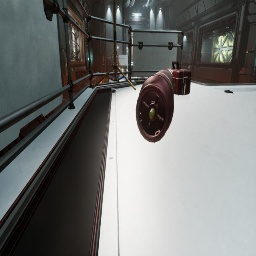0: (120, 65, 122, 76), (122, 65, 124, 76), (127, 65, 128, 77), (133, 77, 138, 78), (97, 72, 101, 73), (112, 63, 114, 65)
EmergencyPhone ,: (102, 55, 104, 59)
FireAlarm ,: (193, 52, 194, 55), (103, 60, 104, 63), (86, 51, 86, 55)
FirstAidBox ,: (164, 61, 191, 96), (130, 63, 130, 65), (118, 74, 118, 76)
NitrogenTank ,: (136, 69, 174, 143), (116, 62, 118, 77), (112, 62, 114, 77), (118, 62, 120, 77)
SafetySwitchPanel ,: (239, 55, 248, 74), (62, 53, 68, 76), (126, 47, 128, 55)
